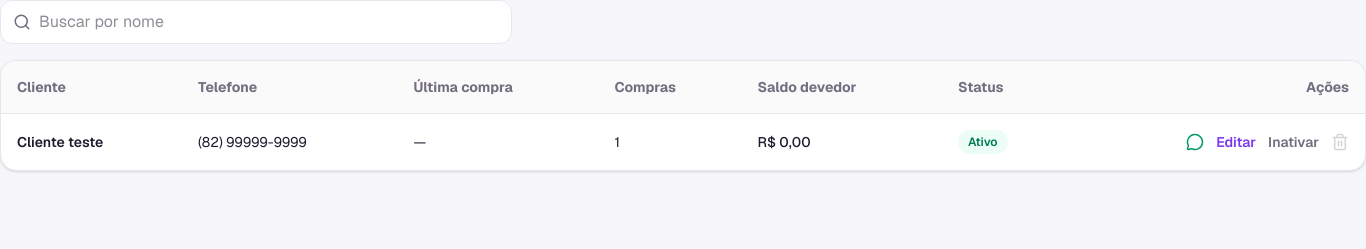
Test: CustomerList › blocks deletion while the customer has completed sales
Step 1. Click the button named "excluir cliente teste" → [1340, 142], box [1331,133,1349,151]
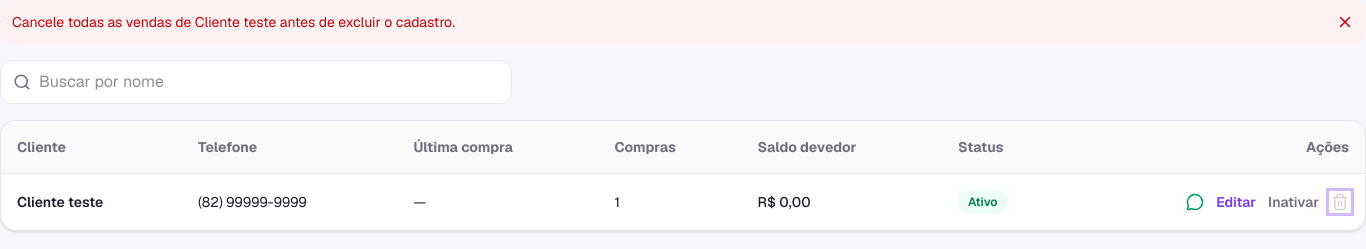
Result: the message shows "Cancele todas as vendas" at [12,13,455,31]
